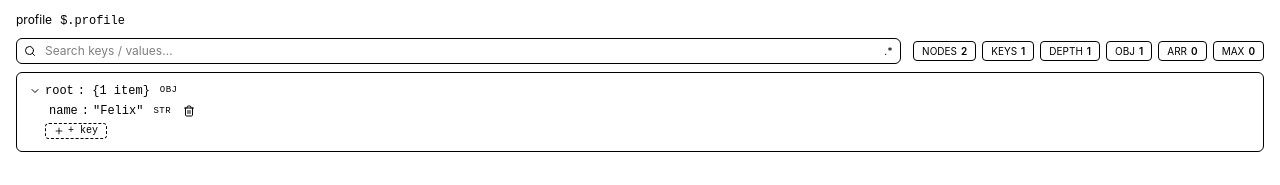
Test: DocumentTreePanel › AC-344-B-07a: duplicate key against existing value blocks commit
The image size is (1280, 185).
Click the button with test id "tree-add-key-__root" at {"x": 76, "y": 131}, box [45,123,107,139]
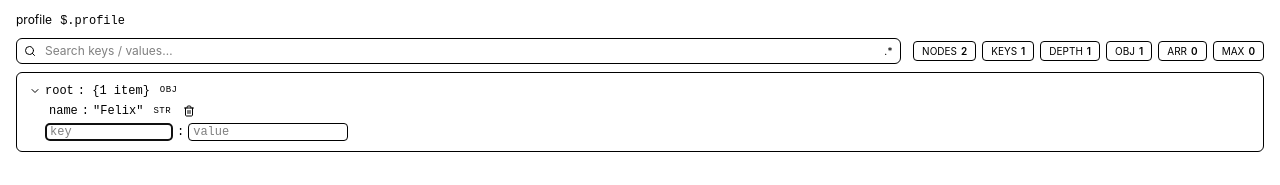
Type "name" into the field with test id "tree-add-key-input-__root" at {"x": 109, "y": 132}, box [45,123,173,141]
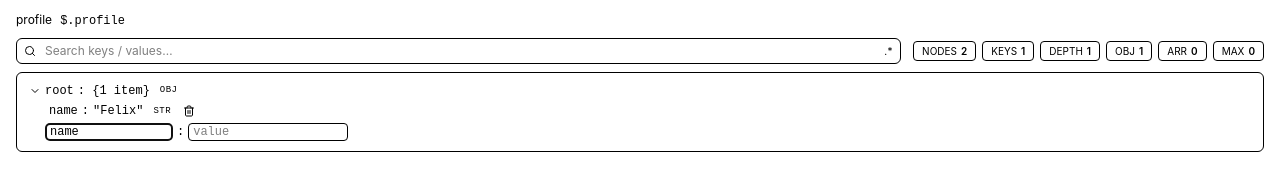
Type "Bob" into the field with test id "tree-add-value-input-__root" at {"x": 268, "y": 132}, box [188,123,348,141]
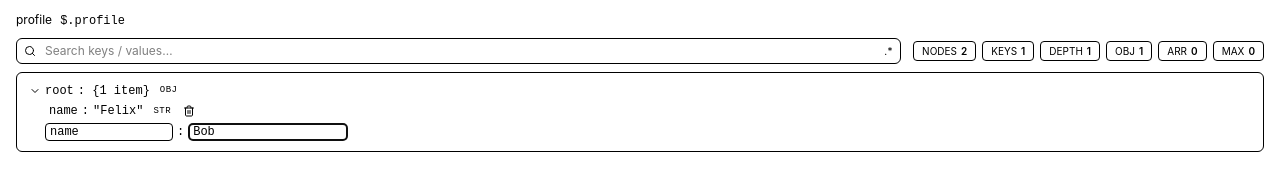
Press Enter
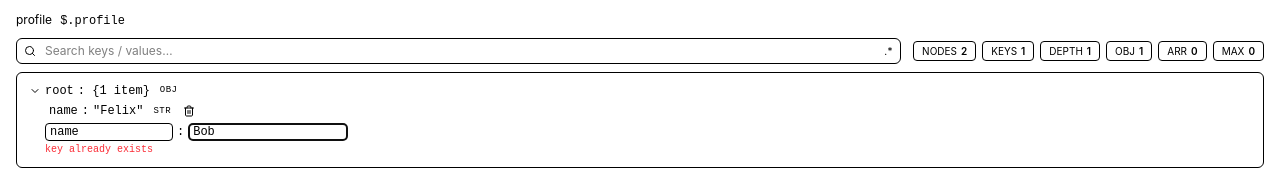
Expected: the text "key already exists" is shown, [45,144,153,155]
